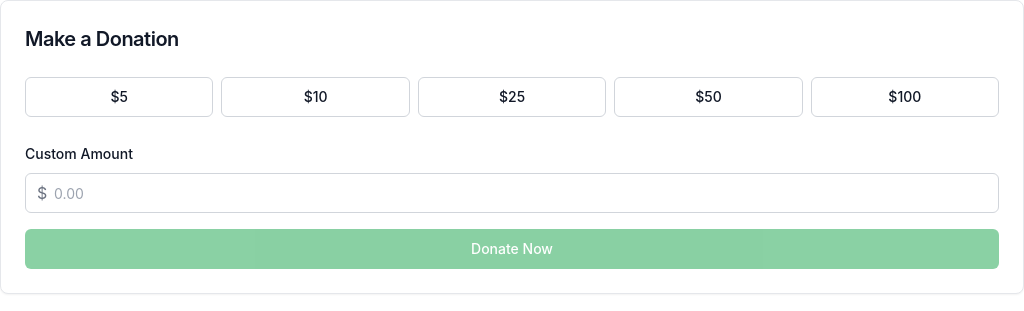
DonationForm › should enable submit button when amount is entered
Type "50" into the number field labelled "Custom Amount" at [512, 193], box x1=25 y1=173 x2=999 y2=213
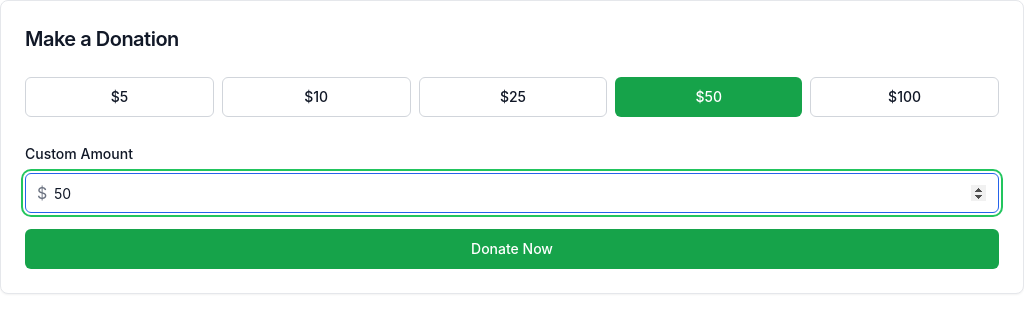
Check: the button "Donate Now" is enabled, box x1=25 y1=229 x2=999 y2=269
